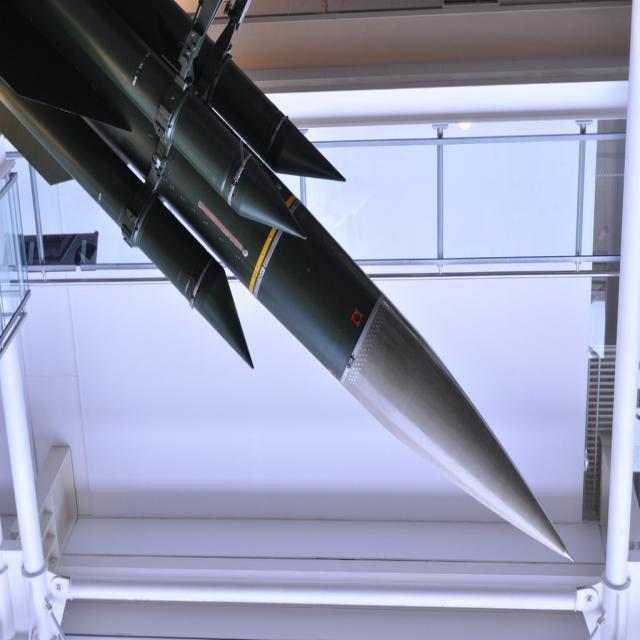Missile: (256, 275, 582, 575)
